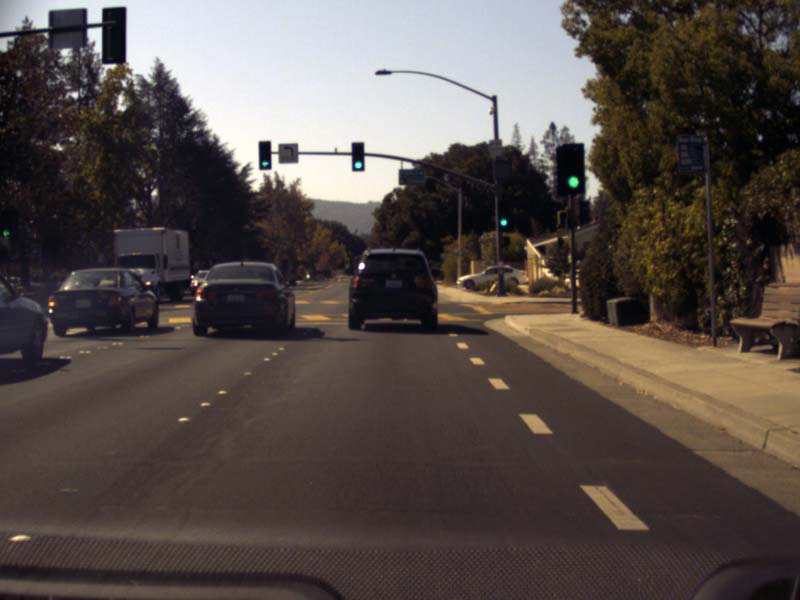Green: (556, 144, 585, 193), (351, 142, 364, 171), (258, 141, 271, 169), (498, 203, 510, 228), (2, 216, 10, 236)
